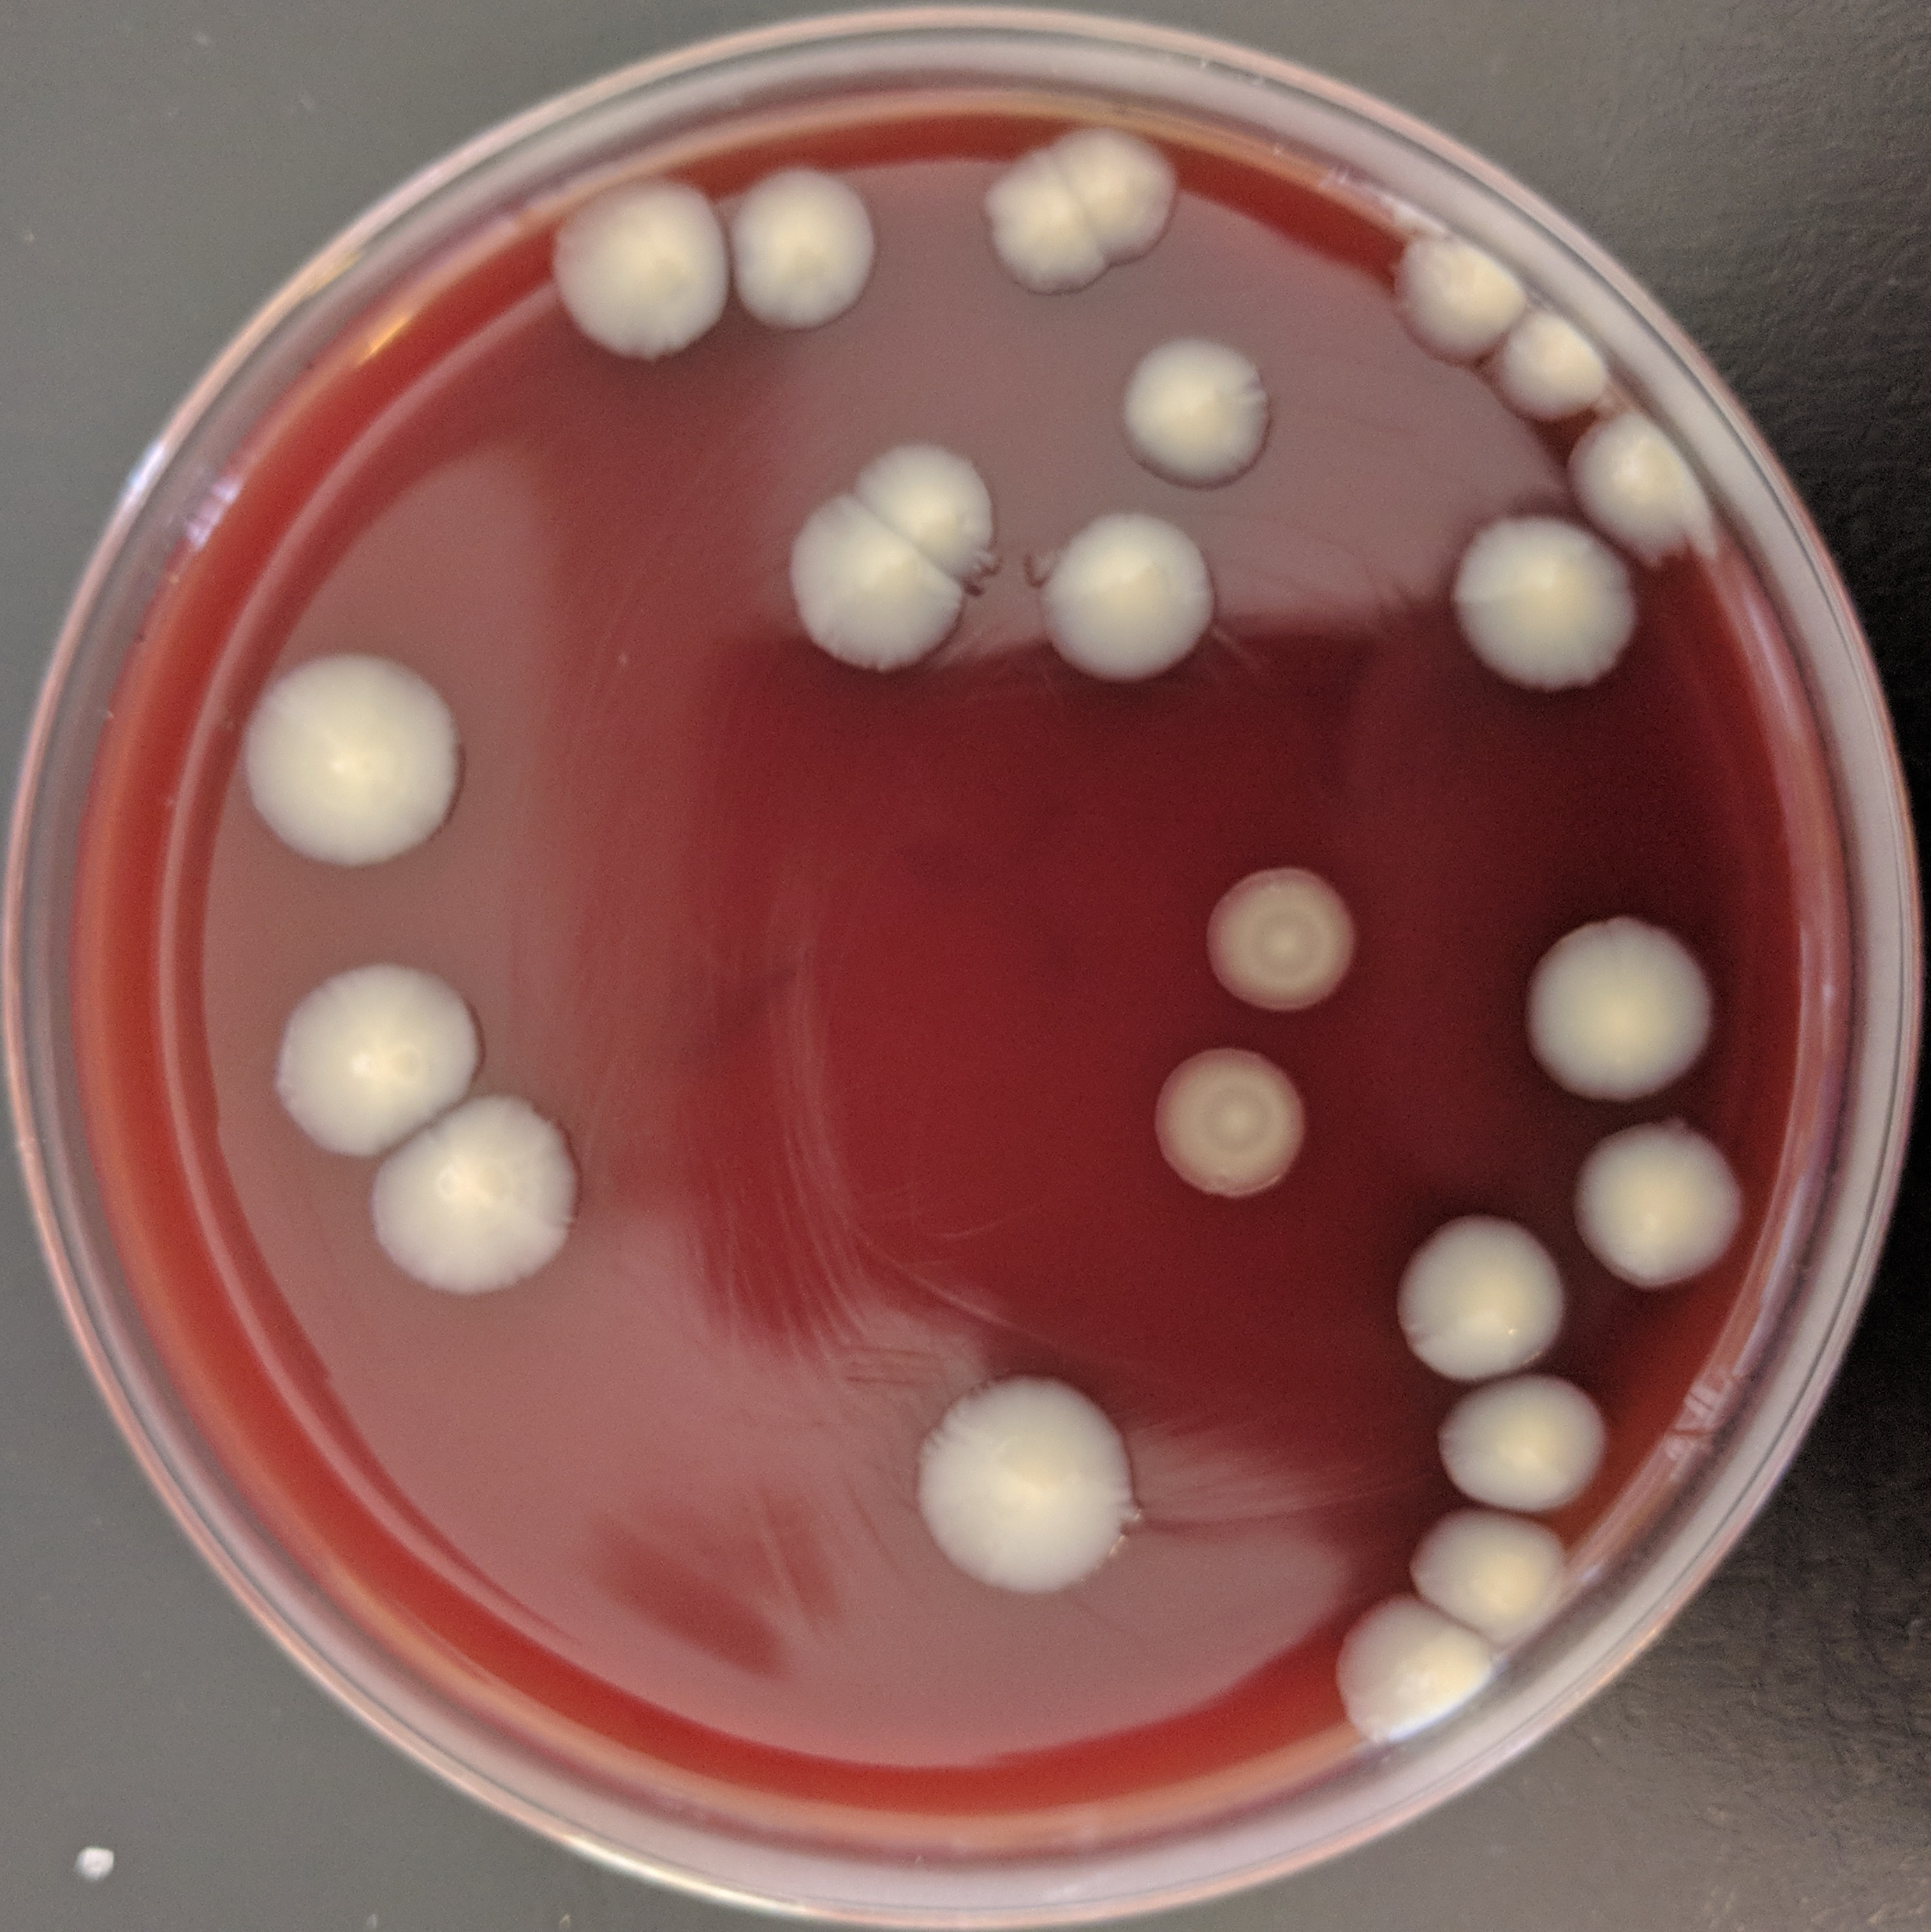sp05: (904, 1364, 1156, 1608), (230, 649, 474, 872), (352, 1085, 596, 1299), (262, 959, 497, 1162), (1431, 508, 1652, 720), (1512, 913, 1733, 1120), (1017, 497, 1227, 713), (543, 165, 732, 379), (780, 488, 969, 692), (1385, 1208, 1600, 1382), (1537, 398, 1735, 579), (1565, 1106, 1747, 1299), (1146, 1026, 1316, 1215), (1422, 1355, 1618, 1518), (1111, 324, 1289, 502), (1328, 1587, 1512, 1750), (1197, 849, 1367, 1019), (851, 432, 1015, 600), (1036, 101, 1190, 274), (729, 165, 879, 341), (1399, 1506, 1577, 1651), (971, 138, 1109, 315), (1381, 225, 1531, 373), (1477, 313, 1609, 423)
